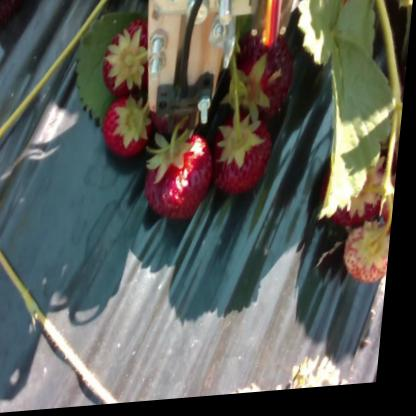ripe: (147, 140, 217, 223), (229, 43, 293, 115), (331, 166, 392, 226), (225, 121, 279, 184), (106, 31, 156, 95), (103, 102, 154, 156)
unripe: (349, 229, 396, 284)
